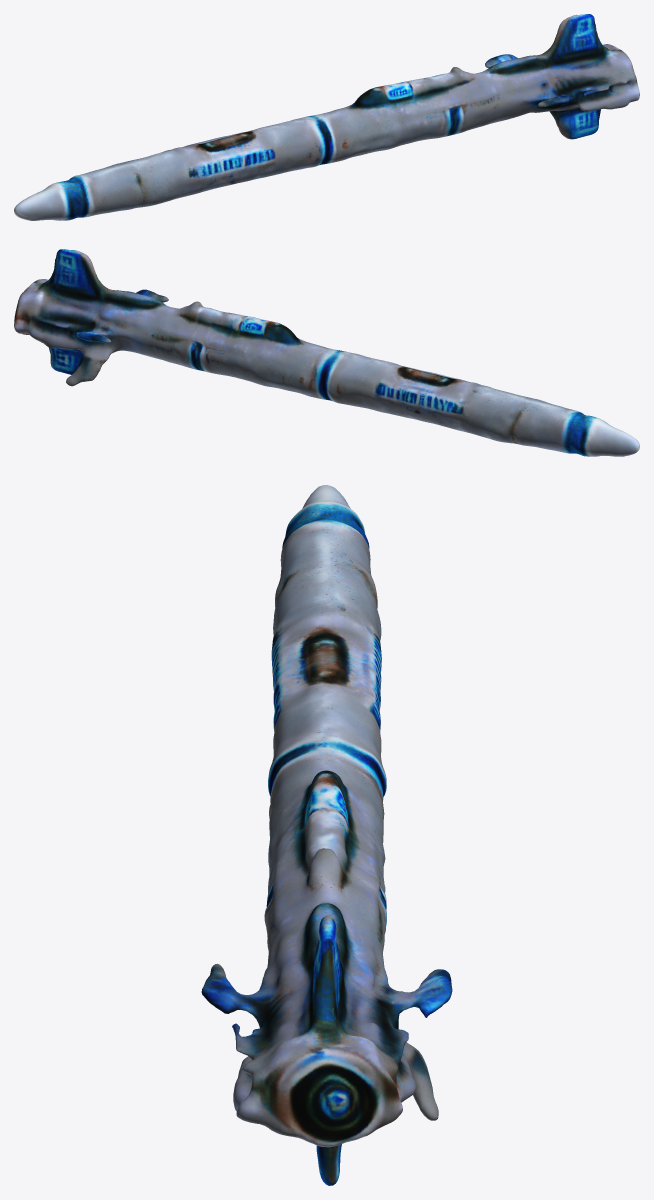
File: sci-fi torpedo with propeller.glb
The picture shows the model from 3 angles, top to bottom: view 1: azimuth 30°, elevation 25°; view 2: azimuth 150°, elevation 25°; view 3: azimuth 270°, elevation 25°; orthographic projection. The views are drawn at different scales.
Visible parts, largest first — view 1: model; view 2: model; view 3: model.
Part boxes in pixels (left/top/right/bottom): model: left=14, top=14, right=639, bottom=220; model: left=14, top=249, right=639, bottom=456; model: left=201, top=485, right=452, bottom=1185.
Bounding box in the file's own units: 1.88 × 0.3665 × 0.3358.
1 material, 1 textured.
